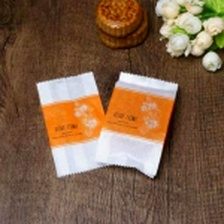snack: (88, 65, 186, 185), (32, 65, 118, 182)
